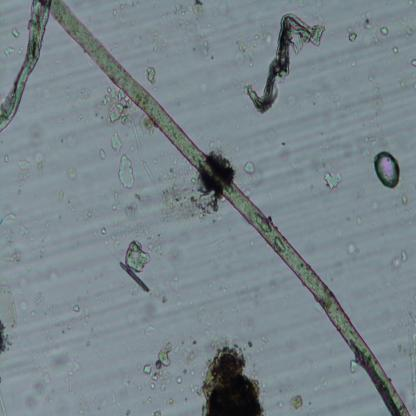Air bubble: (373, 150, 401, 189)
Background material: (245, 11, 327, 113), (201, 339, 267, 415), (159, 168, 221, 234), (176, 0, 221, 68), (117, 237, 153, 291), (138, 340, 174, 391), (0, 275, 20, 355), (0, 223, 33, 267), (50, 346, 82, 387), (107, 186, 142, 222), (122, 305, 159, 339), (275, 378, 307, 416), (101, 90, 134, 126), (234, 30, 261, 68), (362, 71, 386, 112), (17, 293, 43, 327), (177, 336, 201, 370), (358, 124, 380, 160), (210, 139, 233, 173), (404, 309, 416, 369), (338, 231, 360, 261), (10, 388, 36, 412), (280, 138, 300, 168), (356, 6, 374, 37), (119, 154, 135, 188), (11, 174, 30, 196), (172, 365, 187, 392), (324, 171, 344, 190), (28, 150, 51, 166), (143, 62, 158, 86), (148, 29, 162, 54), (13, 156, 33, 172), (108, 133, 122, 154), (243, 158, 257, 176), (80, 304, 92, 324), (169, 275, 181, 294), (3, 44, 17, 59), (347, 28, 359, 45), (113, 4, 127, 18), (2, 212, 18, 224), (67, 165, 77, 183), (40, 372, 53, 385), (78, 89, 92, 101), (392, 259, 406, 270), (147, 409, 166, 416), (55, 269, 63, 285), (98, 148, 107, 162), (399, 250, 408, 264), (56, 187, 65, 200), (11, 27, 22, 37), (350, 360, 358, 373), (402, 194, 410, 206), (400, 78, 408, 90), (380, 26, 389, 36), (98, 226, 104, 238), (73, 304, 80, 314), (410, 57, 416, 68), (394, 45, 398, 54)
Cellulose filter fibre: (0, 0, 52, 132)
Microfibre: (39, 1, 413, 415)
